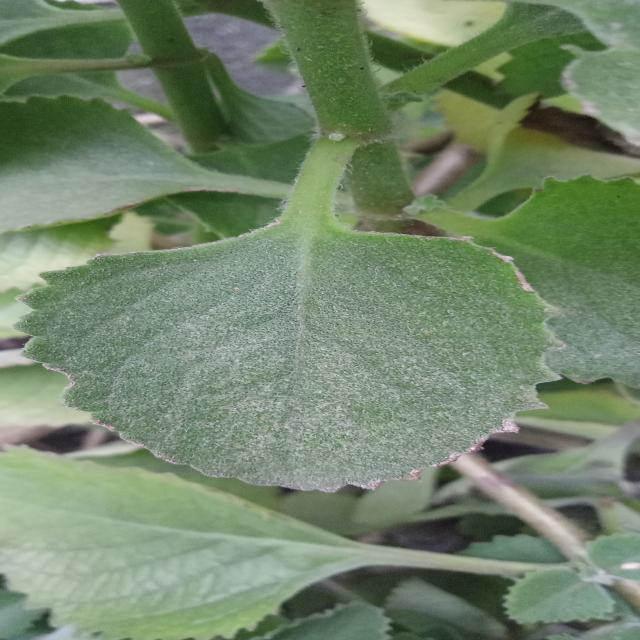Oregano: (8, 205, 616, 504)
